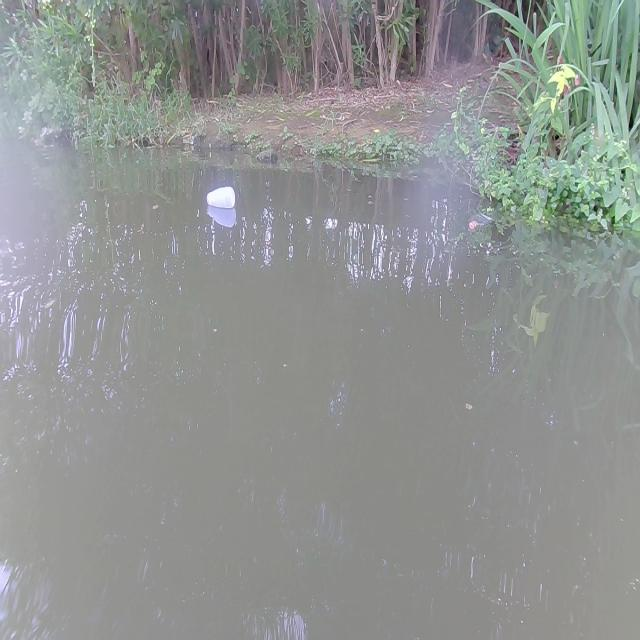bottle: (203, 181, 233, 210)
